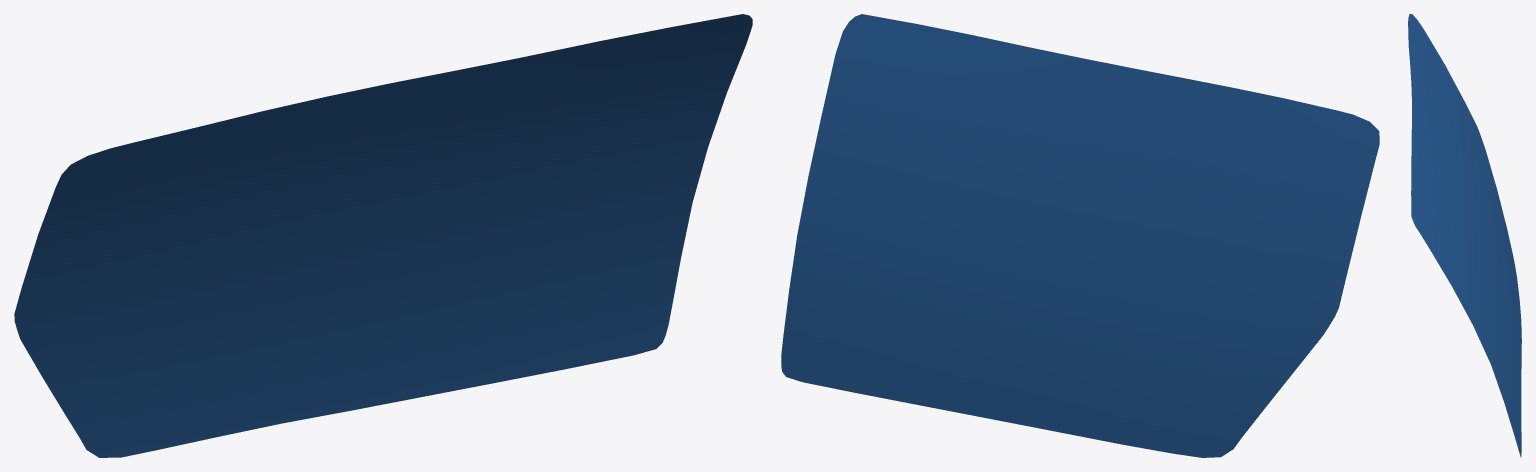
3 renders of one model, left to right at view 1: azimuth 30°, elevation 25°; view 2: azimuth 150°, elevation 25°; view 3: azimuth 270°, elevation 25°, orthographic. The views are drawn at different scales.
Parts seen in each view (by area): view 1: N664_9A_305B_L_1_DTaSI_N664_9A_305B_L; view 2: N664_9A_305B_L_1_DTaSI_N664_9A_305B_L; view 3: N664_9A_305B_L_1_DTaSI_N664_9A_305B_L.
Boxes of the visible parts, x1,y1,x2,y2 form: N664_9A_305B_L_1_DTaSI_N664_9A_305B_L: (14, 14, 752, 457); N664_9A_305B_L_1_DTaSI_N664_9A_305B_L: (781, 14, 1379, 457); N664_9A_305B_L_1_DTaSI_N664_9A_305B_L: (1408, 14, 1521, 457).
Bounding box in the file's own units: 78.37 × 46.1 × 18.69.
